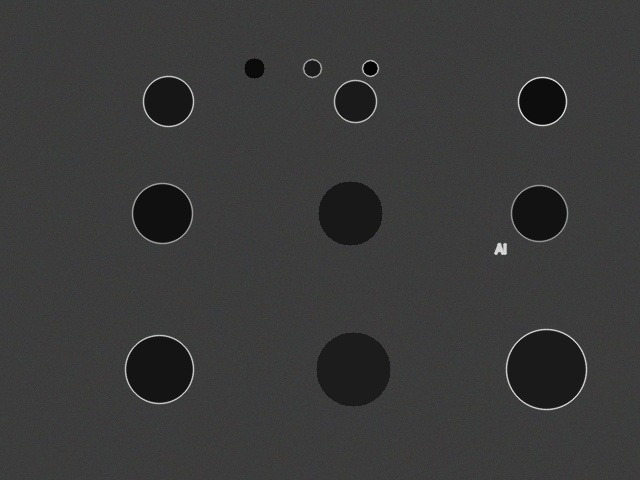hole: (506, 329, 586, 409), (316, 332, 390, 406), (125, 335, 193, 403), (318, 181, 382, 245), (132, 183, 192, 243), (511, 185, 567, 241), (143, 76, 193, 126), (518, 77, 566, 125), (334, 80, 376, 122), (244, 58, 264, 78), (303, 59, 321, 77), (362, 60, 378, 76)
